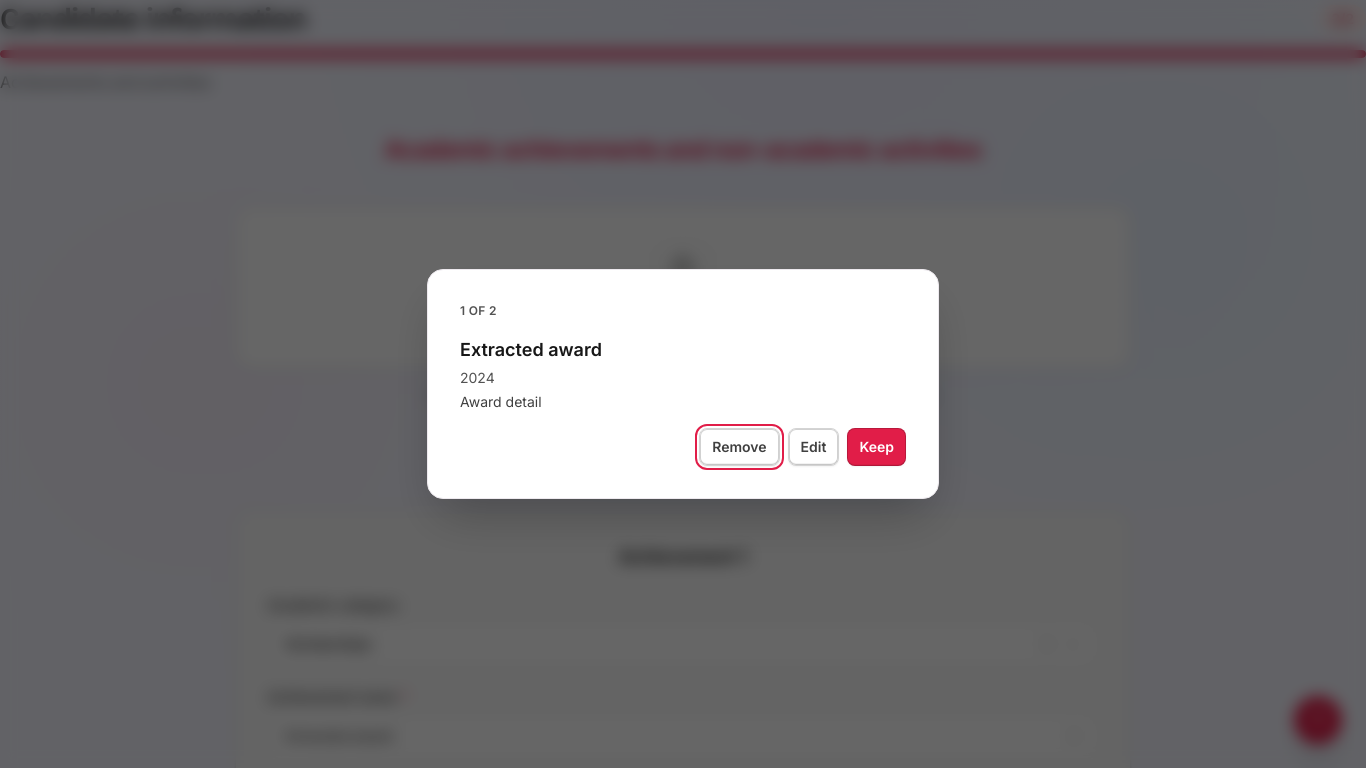
Test case: ReflectionEvidenceForm (SVG & Mockup UI) › opens the extracted-item review queue and resolves each item explicitly
Check: the heading "Extracted award" is shown, box left=460, top=339, right=602, bottom=360
Check: the text "1 of 2" is shown, box left=460, top=303, right=497, bottom=318
Click the button "Keep" at [877, 447], box left=847, top=428, right=906, bottom=466
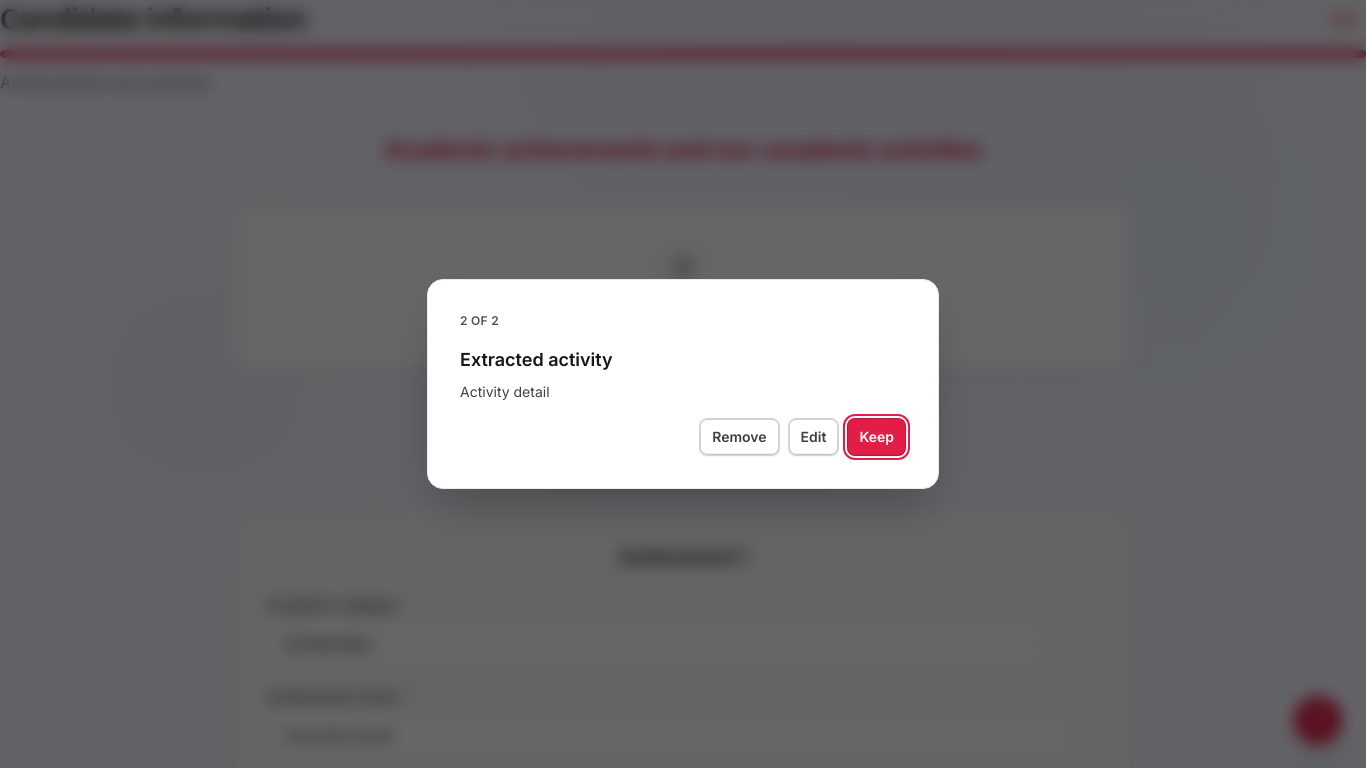
Check: the heading "Extracted activity" is shown, box left=460, top=349, right=613, bottom=370
Check: the text "2 of 2" is shown, box left=460, top=313, right=499, bottom=328
Click the button "Keep" at [877, 437], box left=847, top=418, right=906, bottom=456
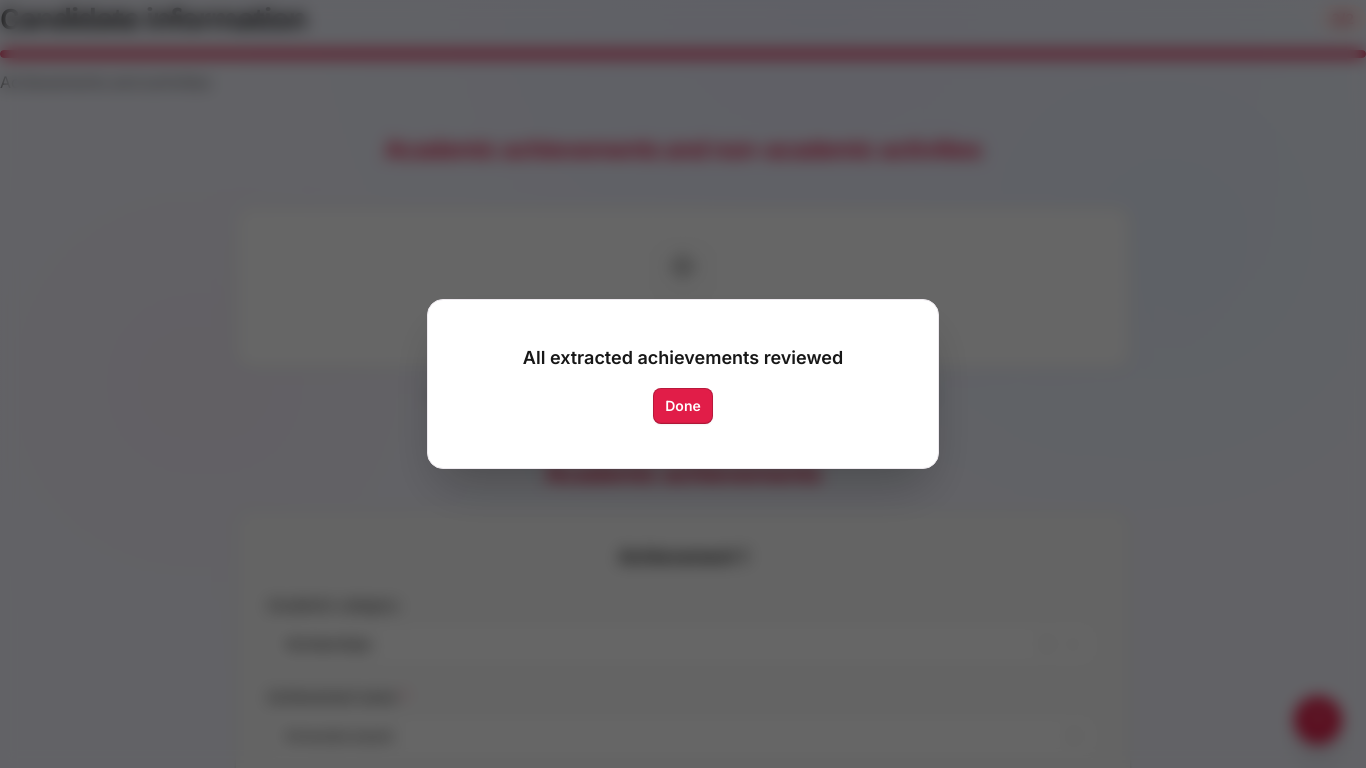
Check: the text "All extracted achievements reviewed" is shown, box left=523, top=344, right=843, bottom=372
